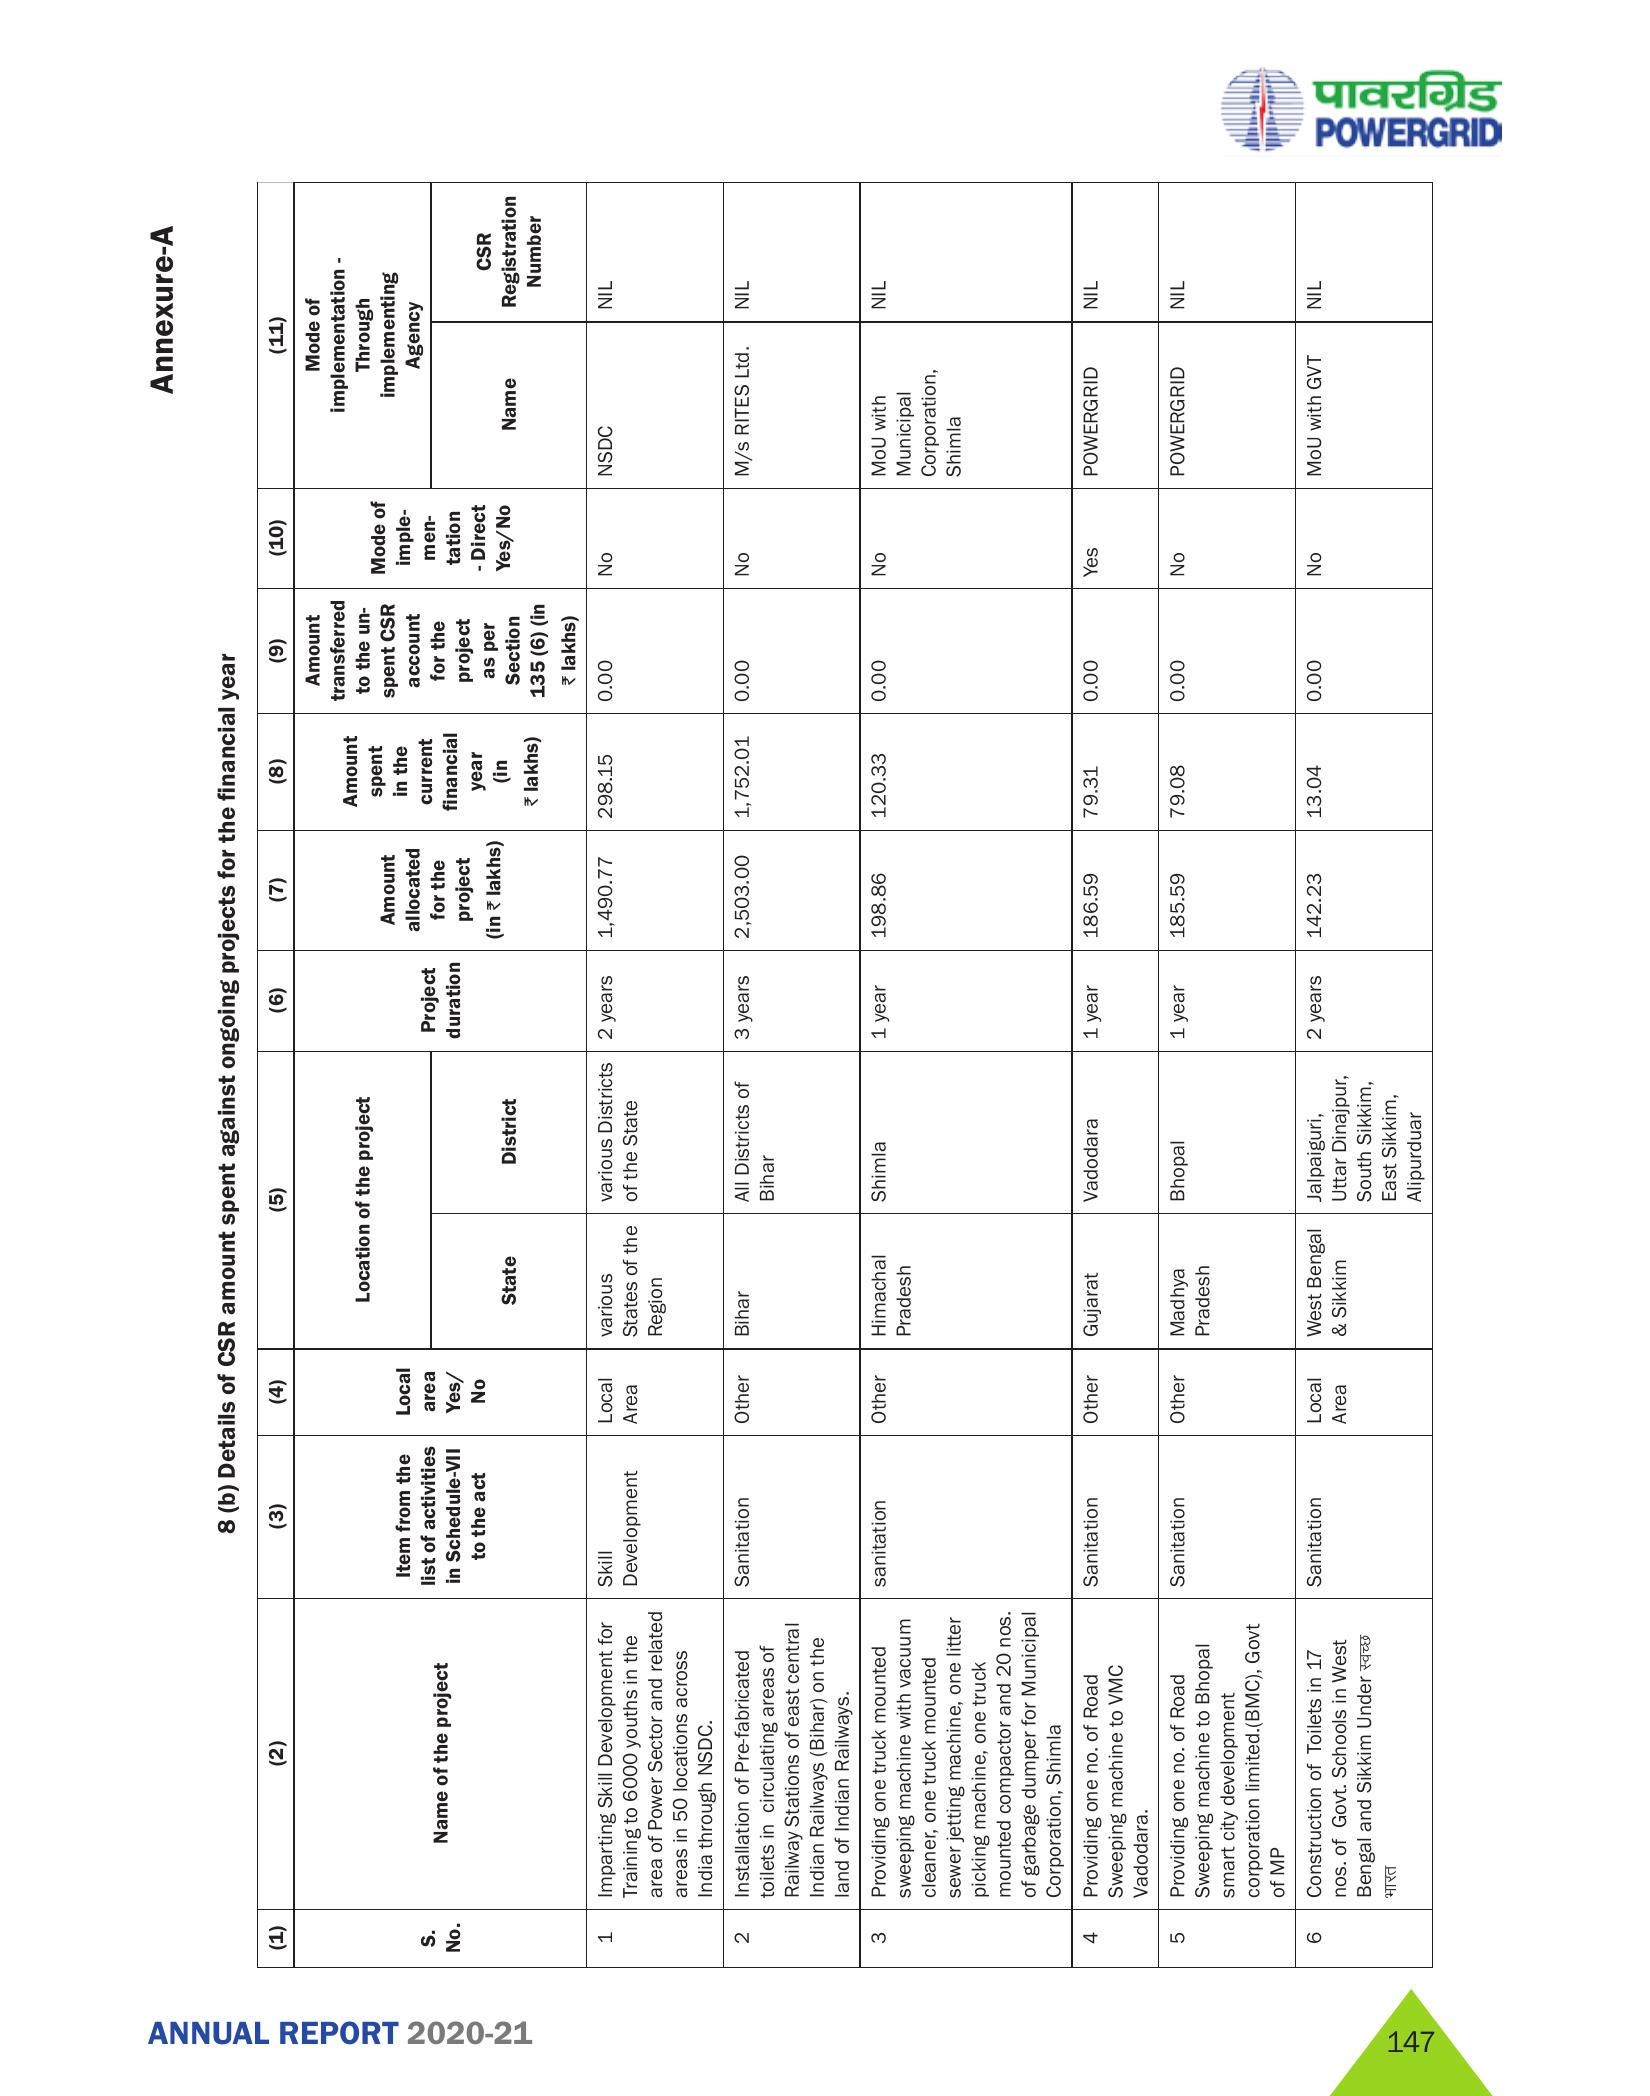Footer: (0, 1985, 1650, 2096)
Header: (0, 0, 1650, 163)
Table: (192, 172, 1478, 1962)
